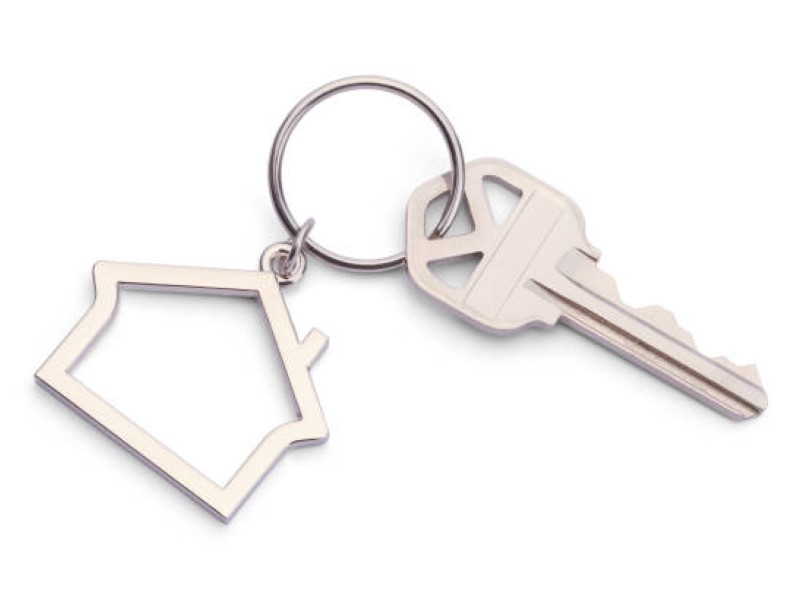key: (401, 150, 770, 423)
